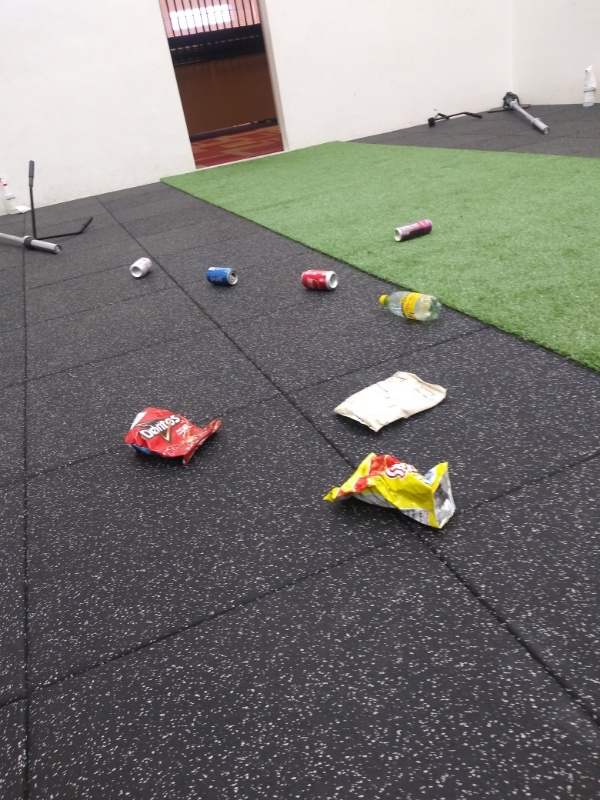bag: (317, 449, 466, 541), (324, 366, 450, 435), (119, 405, 227, 467)
bottle: (375, 290, 445, 326)
can: (391, 213, 437, 247), (295, 267, 342, 292), (200, 264, 242, 288), (128, 253, 156, 280)
